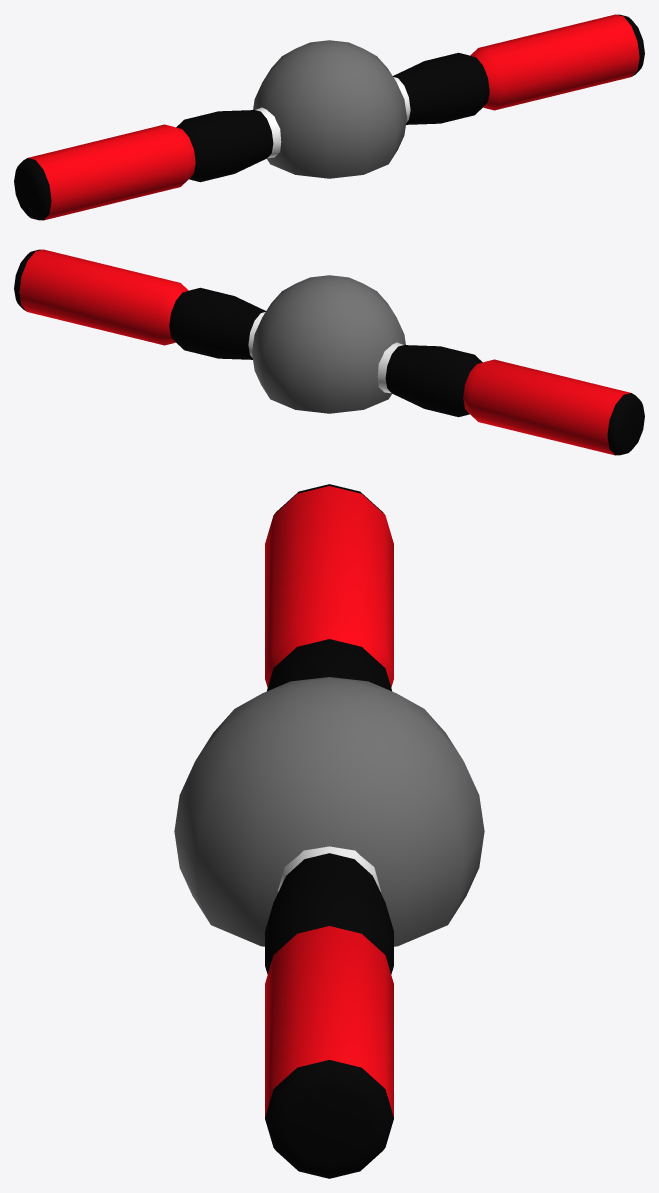
File: Rotator.fbx
3 renders of one model, top to bottom at view 1: azimuth 30°, elevation 25°; view 2: azimuth 150°, elevation 25°; view 3: azimuth 270°, elevation 25°, orthographic. The views are drawn at different scales.
Parts seen in each view (by area): view 1: Cilindro; view 2: Cilindro; view 3: Cilindro.
Part boxes in pixels (x1,y1,x2,y2): Cilindro: (14, 14, 644, 220); Cilindro: (14, 249, 644, 455); Cilindro: (174, 484, 484, 1178).
Size of the model in its own units: 755 by 124 by 167.
Materials: 1 (1 with a texture image).
